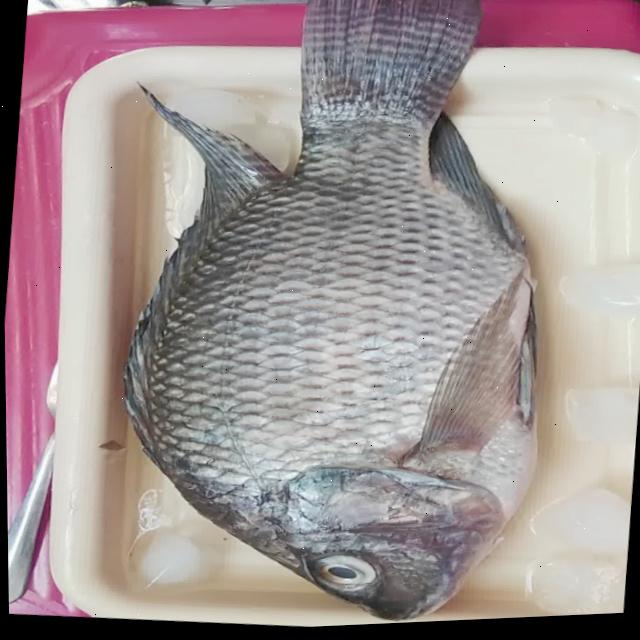Fresh: (95, 0, 578, 546), (241, 515, 395, 608)
